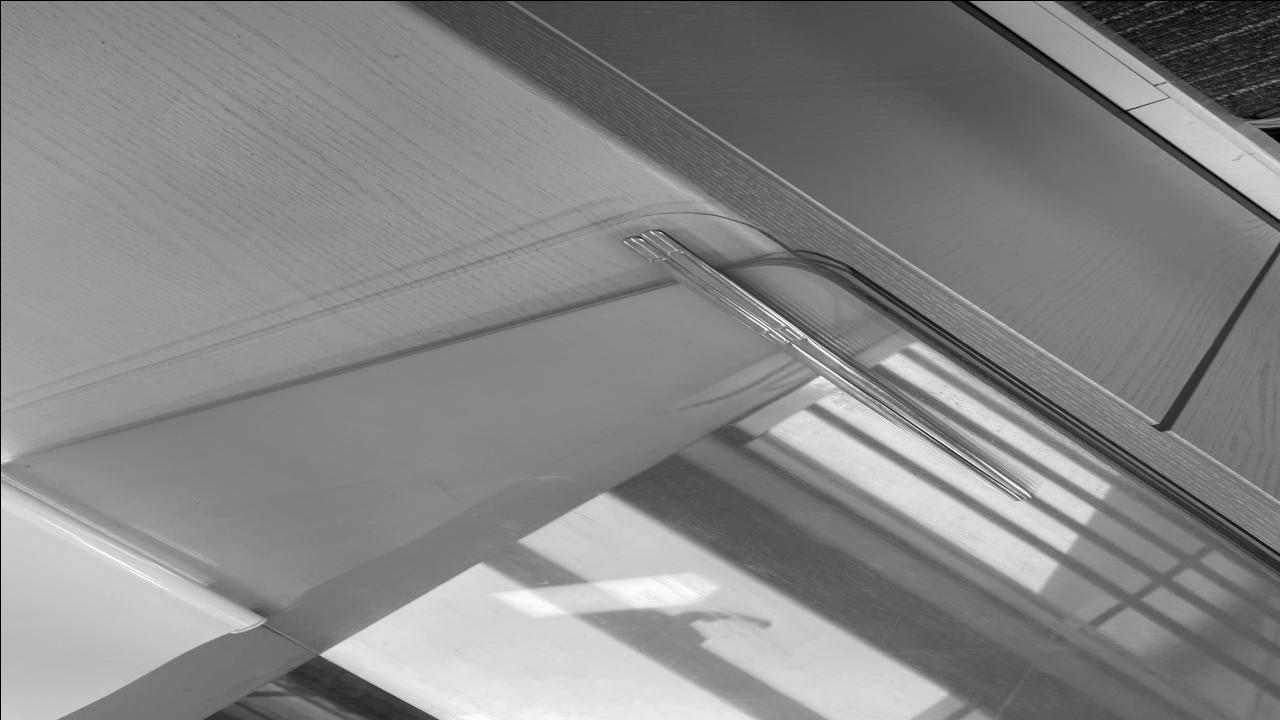chopstick: (618, 231, 1038, 498)
